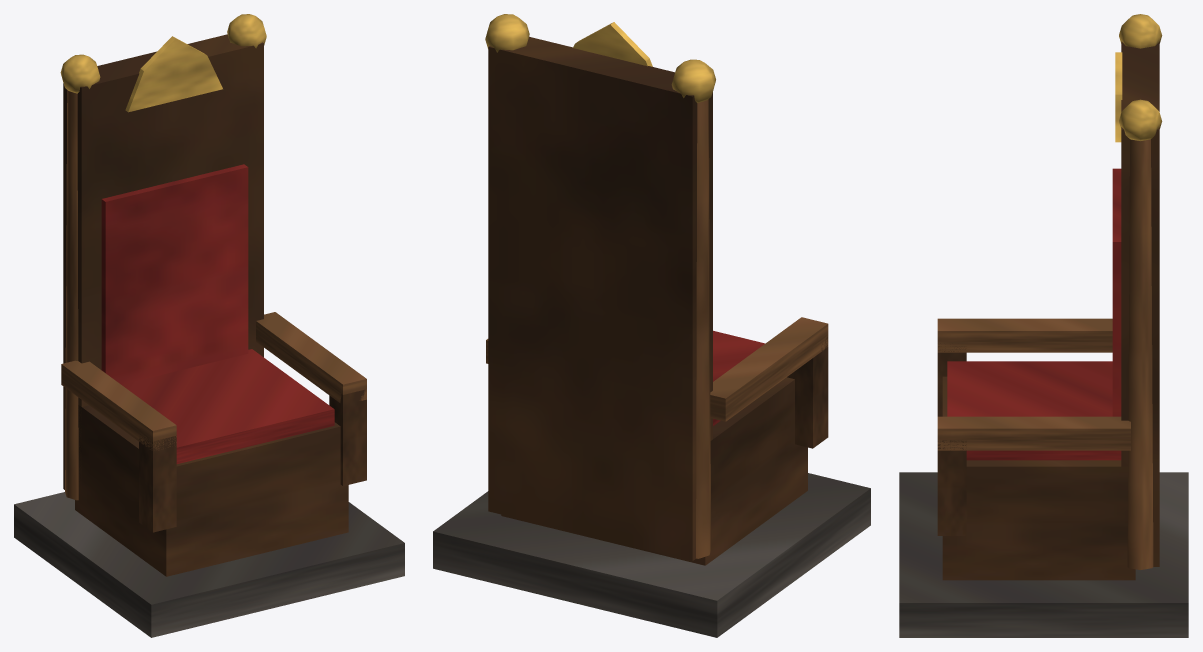
Rendered from throne.obj.
The picture shows the model from 3 angles, left to right: view 1: azimuth 30°, elevation 25°; view 2: azimuth 150°, elevation 25°; view 3: azimuth 270°, elevation 25°; orthographic projection. The views are drawn at different scales.
Size of the model in its own units: 6.4 by 11.9 by 6.
Materials: 1 (1 with a texture image).
